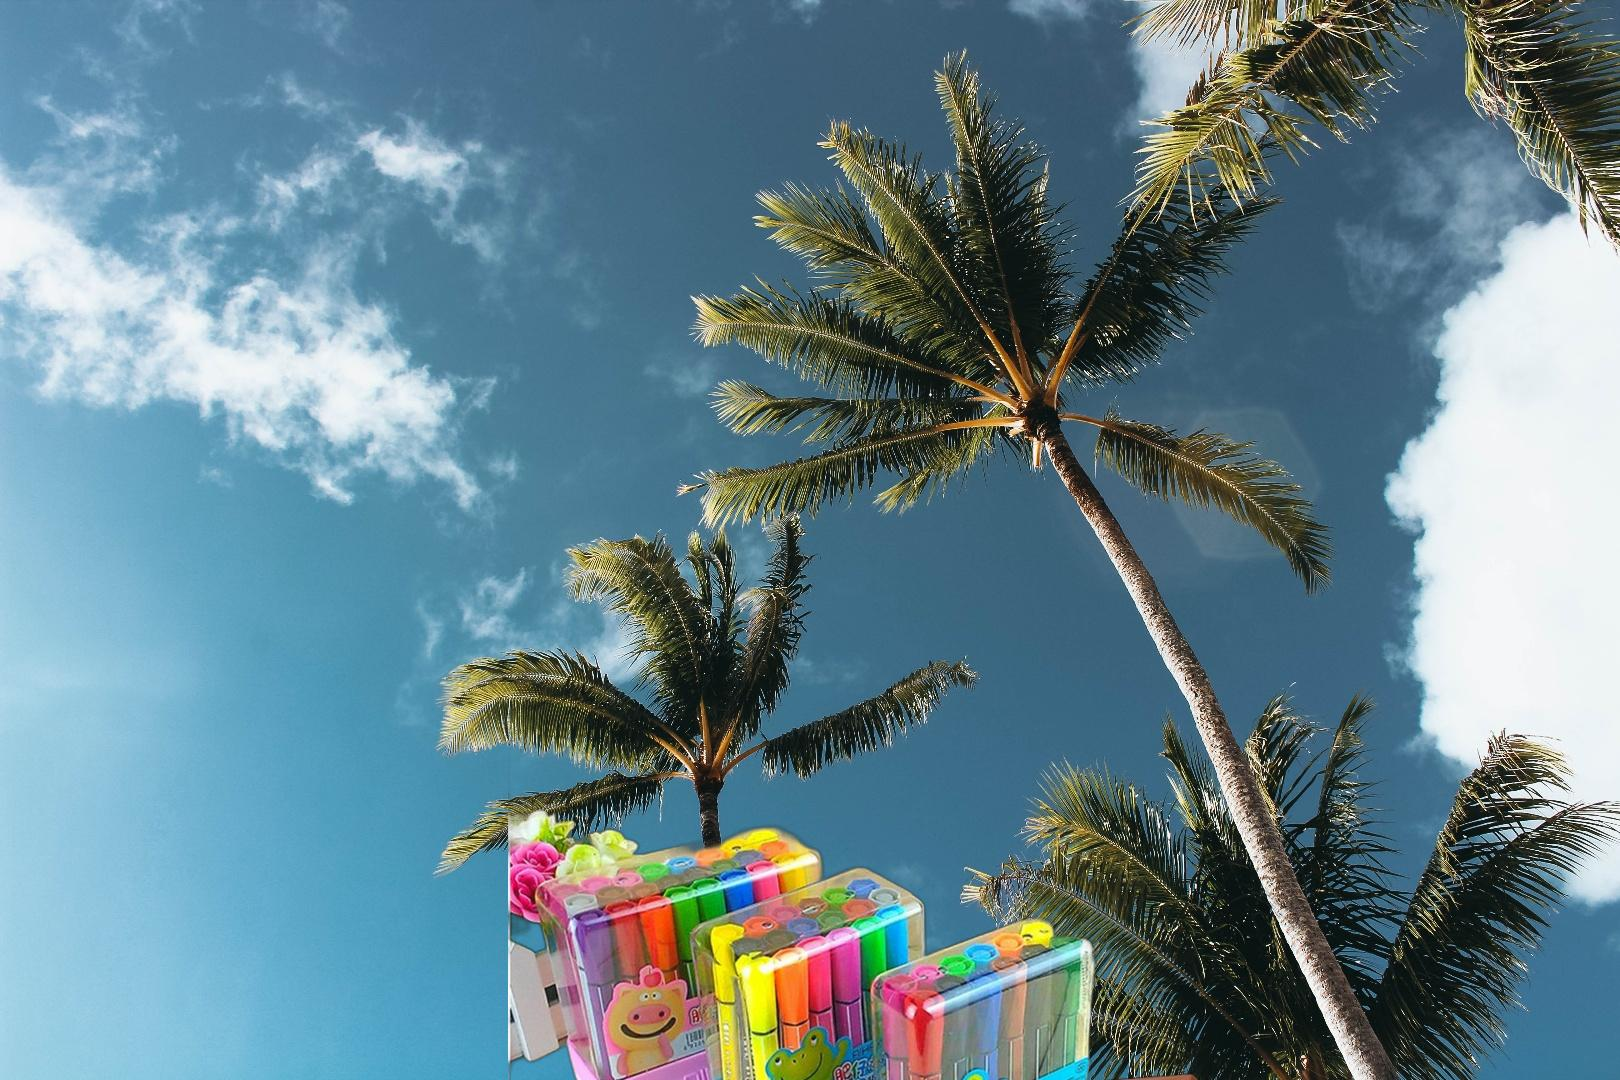penholder: (507, 724, 1103, 1080)
trashbox-cardboard: (1055, 1072, 1263, 1080)
